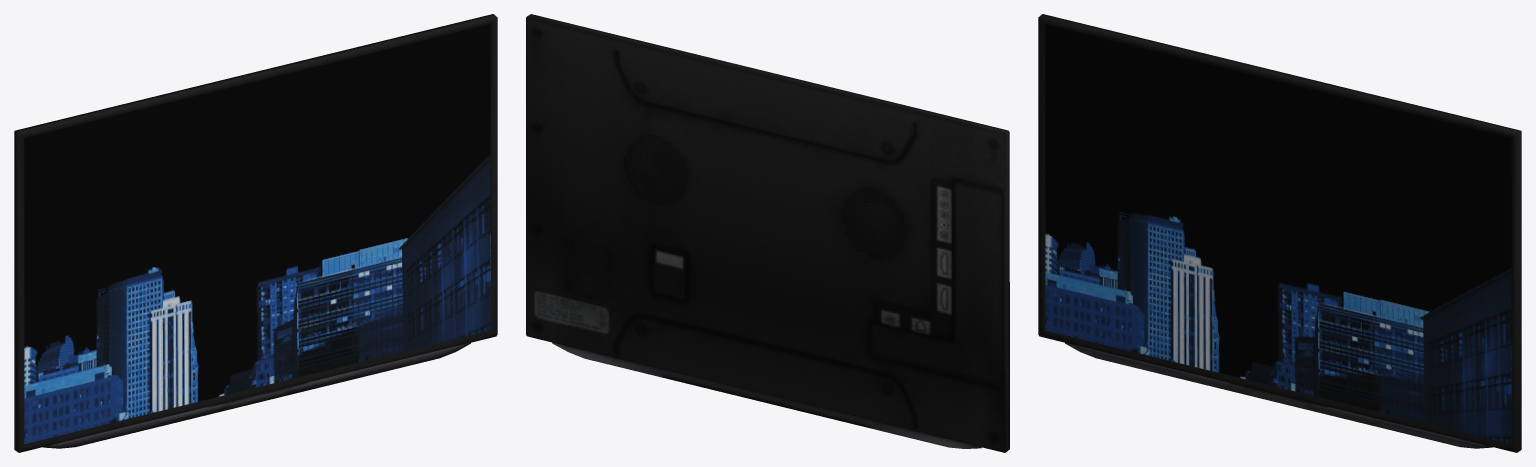
The model's file is p6_tv_led_large_lod1.glb.
3 renders of one model, left to right at view 1: azimuth 30°, elevation 25°; view 2: azimuth 150°, elevation 25°; view 3: azimuth 330°, elevation 25°, orthographic.
Visible parts, largest first — view 1: surf0, surf1; view 2: surf1; view 3: surf0, surf1.
Part boxes in pixels (bbox=[...]): surf0: bbox=[24, 24, 490, 443]; surf1: bbox=[14, 14, 497, 452]; surf1: bbox=[526, 14, 1009, 452]; surf0: bbox=[1045, 24, 1511, 443]; surf1: bbox=[1038, 14, 1521, 452].
Bounding box in the file's own units: 134 × 87.8 × 1.74.
